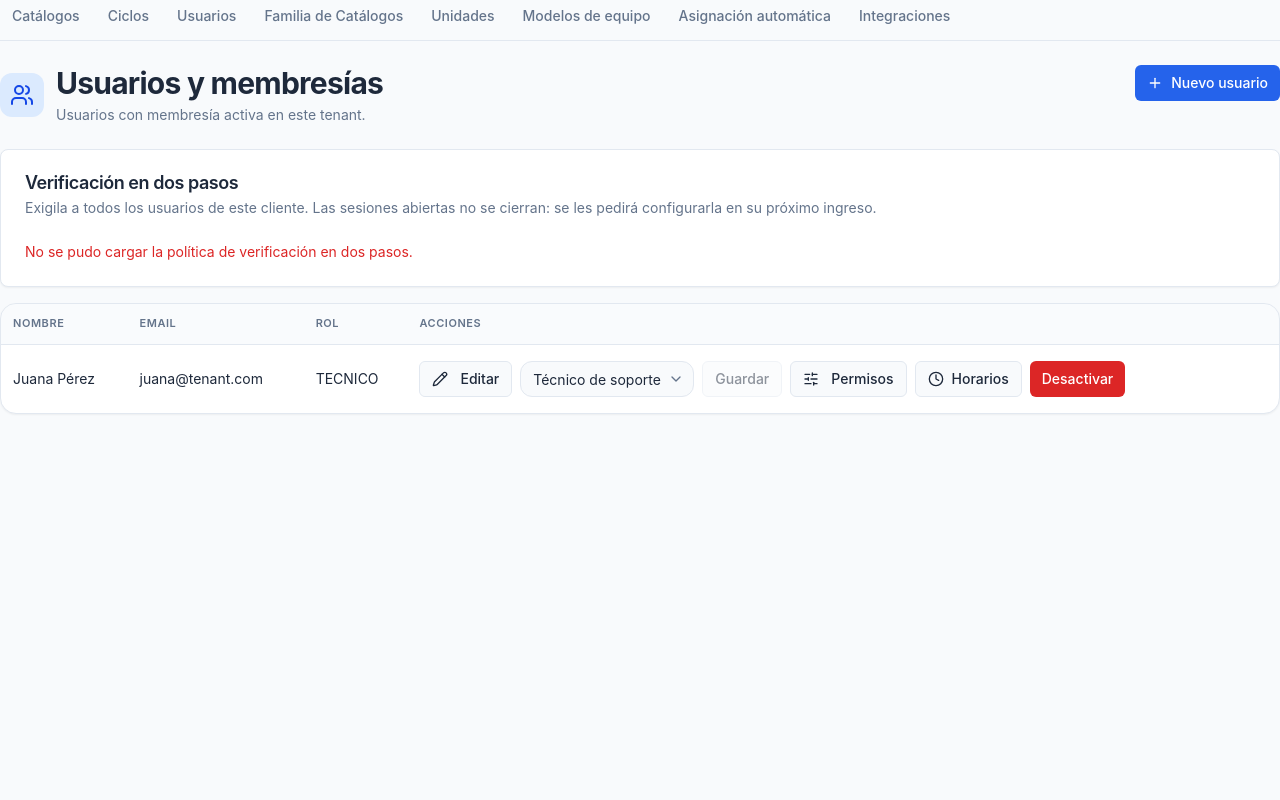
Test: UsuariosAdminView — botón Horarios (odd/tasks/pedidos-2026-10-26.md, S6) › abre el horario de ese usuario: si no tiene propio, avisa que usa el del cliente
Click the button with aria-label "Horarios de Juana Pérez" at (968, 378), box 914,360 -> 1022,396
(page scrolled)
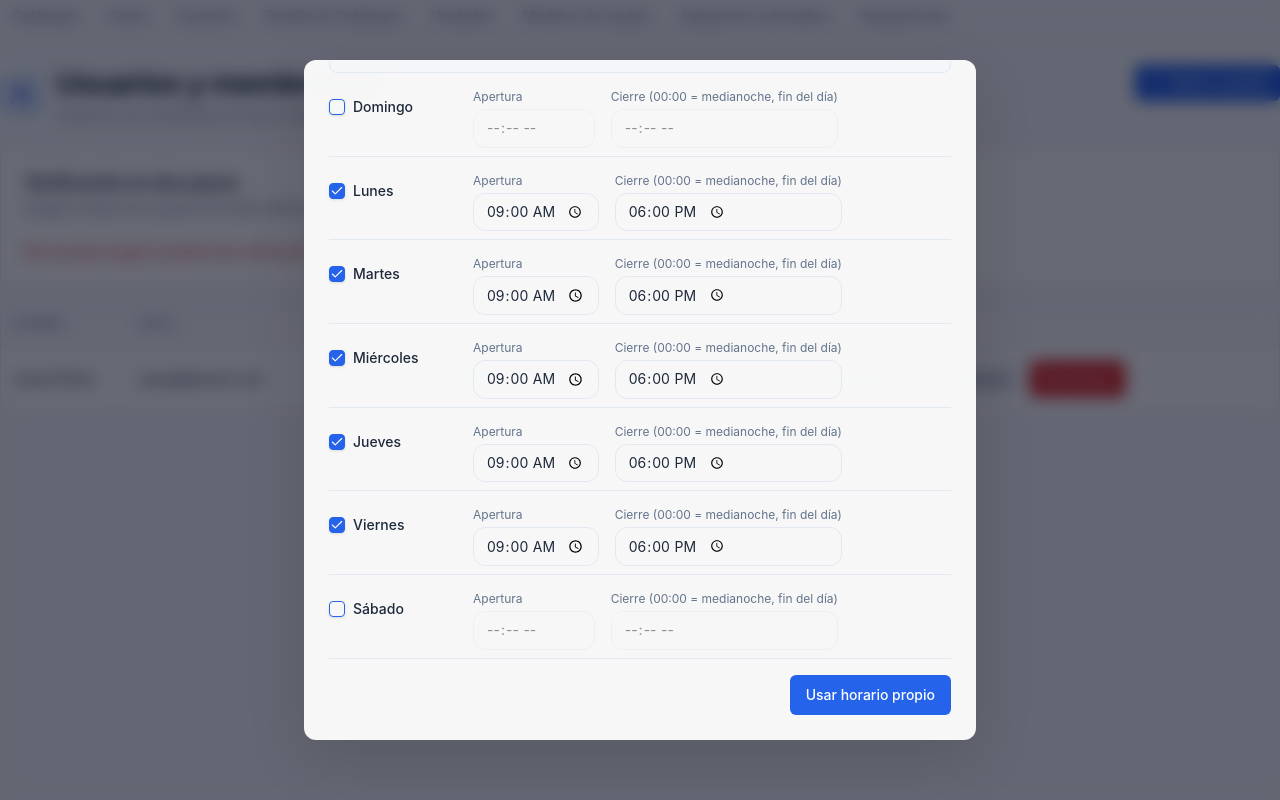
Expected: the time field labelled "Apertura" next to "Lunes" holds "09:00", 473,193 -> 599,231
Expected: the button "Usar horario propio" is shown, 790,675 -> 951,715
